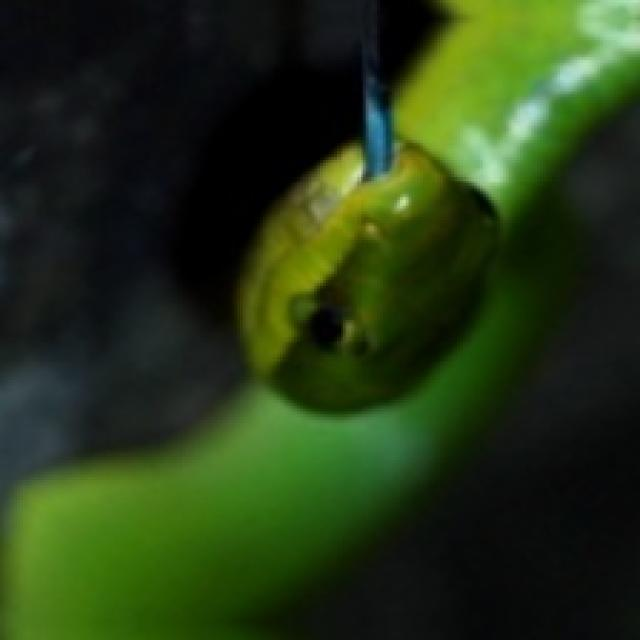red-tailed green ratsnake: (3, 0, 637, 637), (237, 140, 494, 409)
